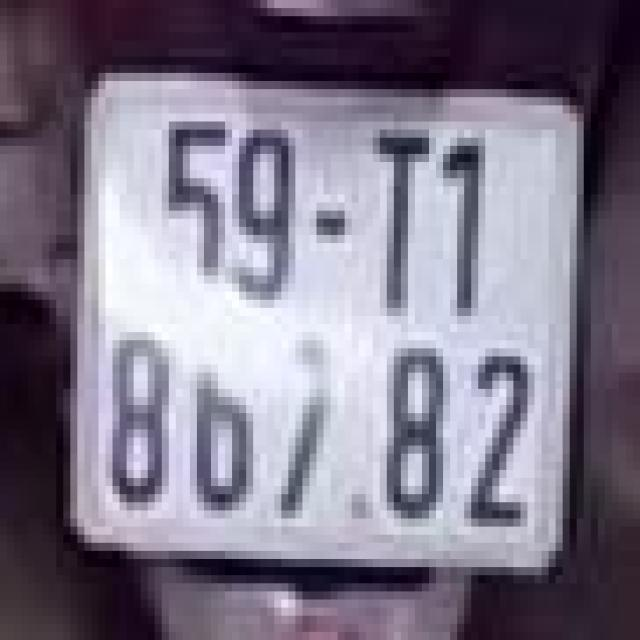1: (439, 134, 488, 320)
2: (468, 336, 538, 539)
5: (148, 105, 232, 308)
6: (193, 336, 257, 514)
7: (274, 328, 338, 531)
8: (366, 332, 457, 543), (98, 316, 176, 510)
9: (236, 109, 299, 312)
T: (369, 113, 433, 324)
